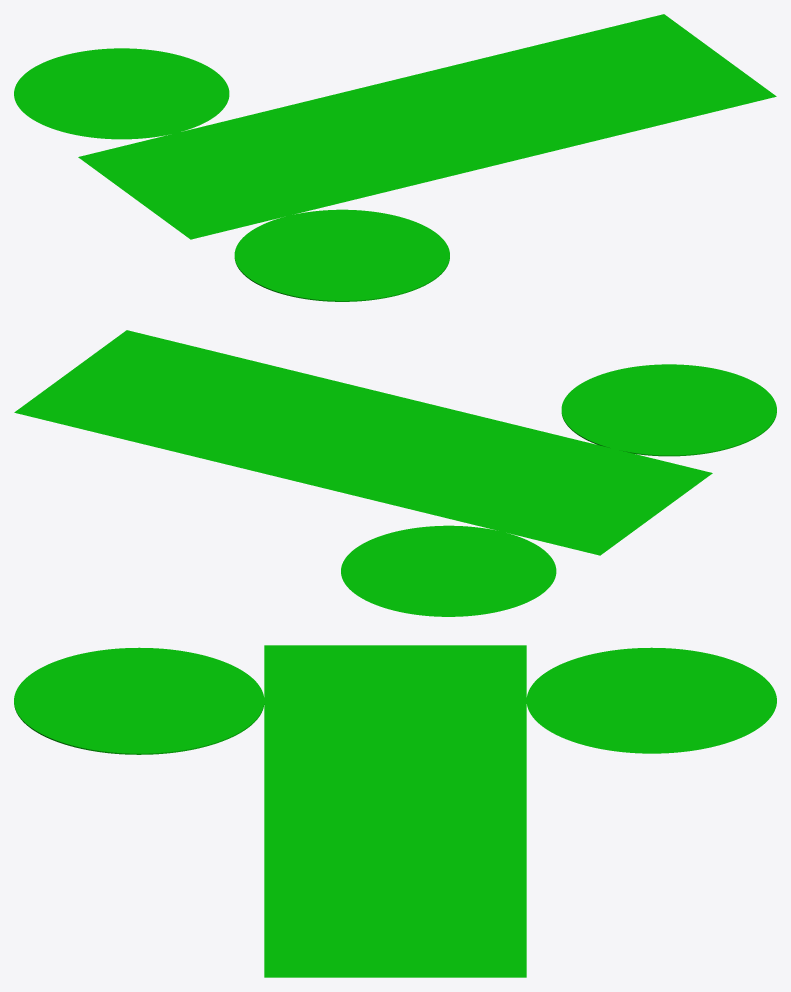
Rendered from plane bend.obj.
3 renders of one model, top to bottom at view 1: azimuth 30°, elevation 25°; view 2: azimuth 150°, elevation 25°; view 3: azimuth 270°, elevation 25°, orthographic. The views are drawn at different scales.
Parts seen in each view (by area): view 1: Plane, Circle, Circle.001; view 2: Plane, Circle, Circle.001; view 3: Plane, Circle, Circle.001.
Part boxes in pixels (x1=…): Plane: x1=78, y1=14, x2=776, y2=239; Circle: x1=234, y1=209, x2=449, y2=301; Circle.001: x1=14, y1=48, x2=229, y2=139; Plane: x1=14, y1=330, x2=712, y2=555; Circle: x1=561, y1=364, x2=776, y2=456; Circle.001: x1=341, y1=525, x2=556, y2=616; Plane: x1=264, y1=645, x2=526, y2=977; Circle: x1=14, y1=647, x2=264, y2=754; Circle.001: x1=526, y1=647, x2=776, y2=753.
Size of the model in its own units: 6 by 0.0109 by 5.82.
